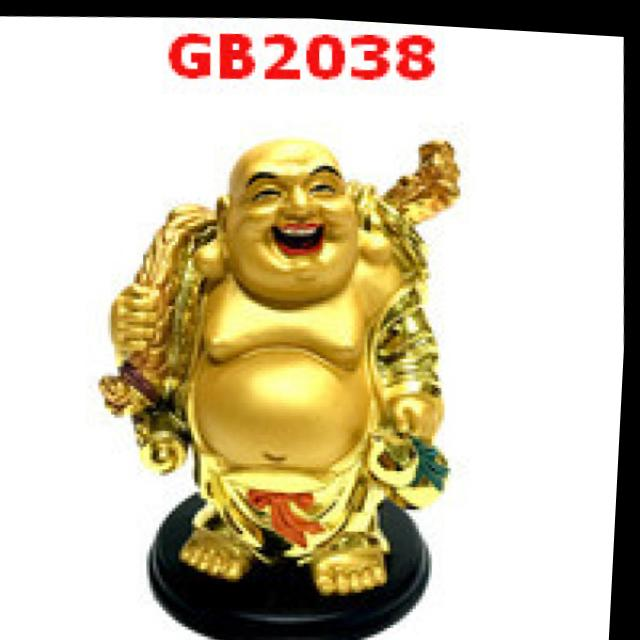Smiling Buddha: (128, 117, 453, 551)
